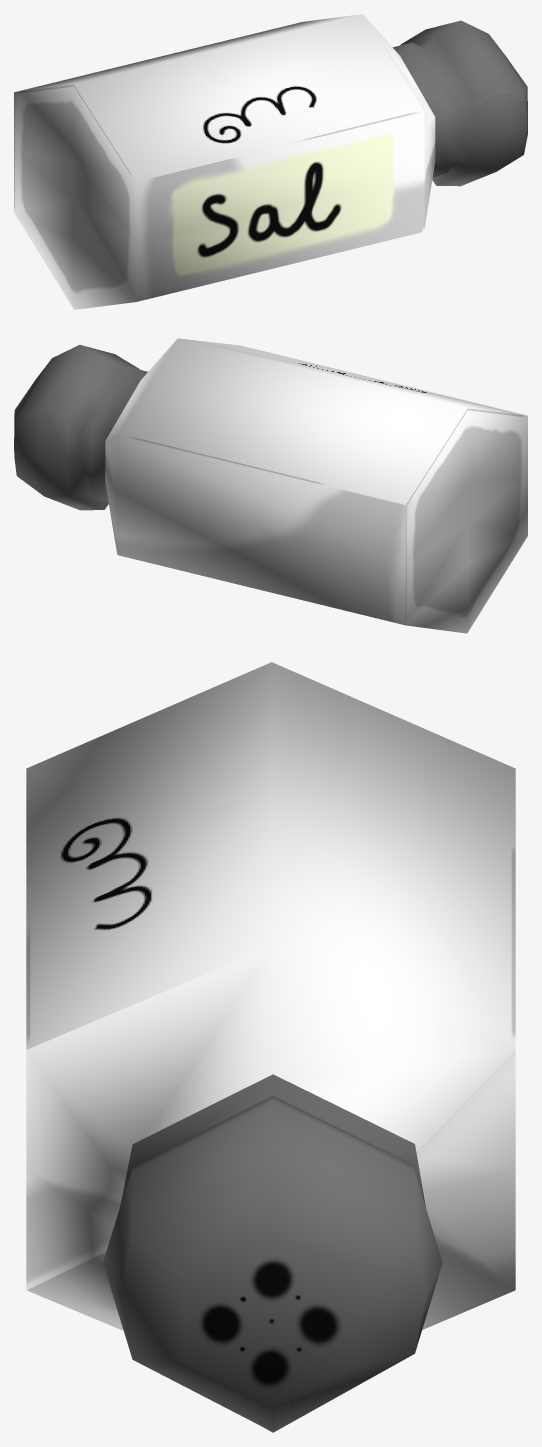
Rendered from salero.fbx.
3 renders of one model, top to bottom at view 1: azimuth 30°, elevation 25°; view 2: azimuth 150°, elevation 25°; view 3: azimuth 270°, elevation 25°, orthographic. The views are drawn at different scales.
Parts seen in each view (by area): view 1: Cube; view 2: Cube; view 3: Cube.
Part boxes in pixels (x1=…): Cube: x1=14, y1=14, x2=527, y2=309; Cube: x1=14, y1=338, x2=527, y2=633; Cube: x1=26, y1=662, x2=515, y2=1432.
Bounding box in the file's own units: 284 × 142 × 139.
